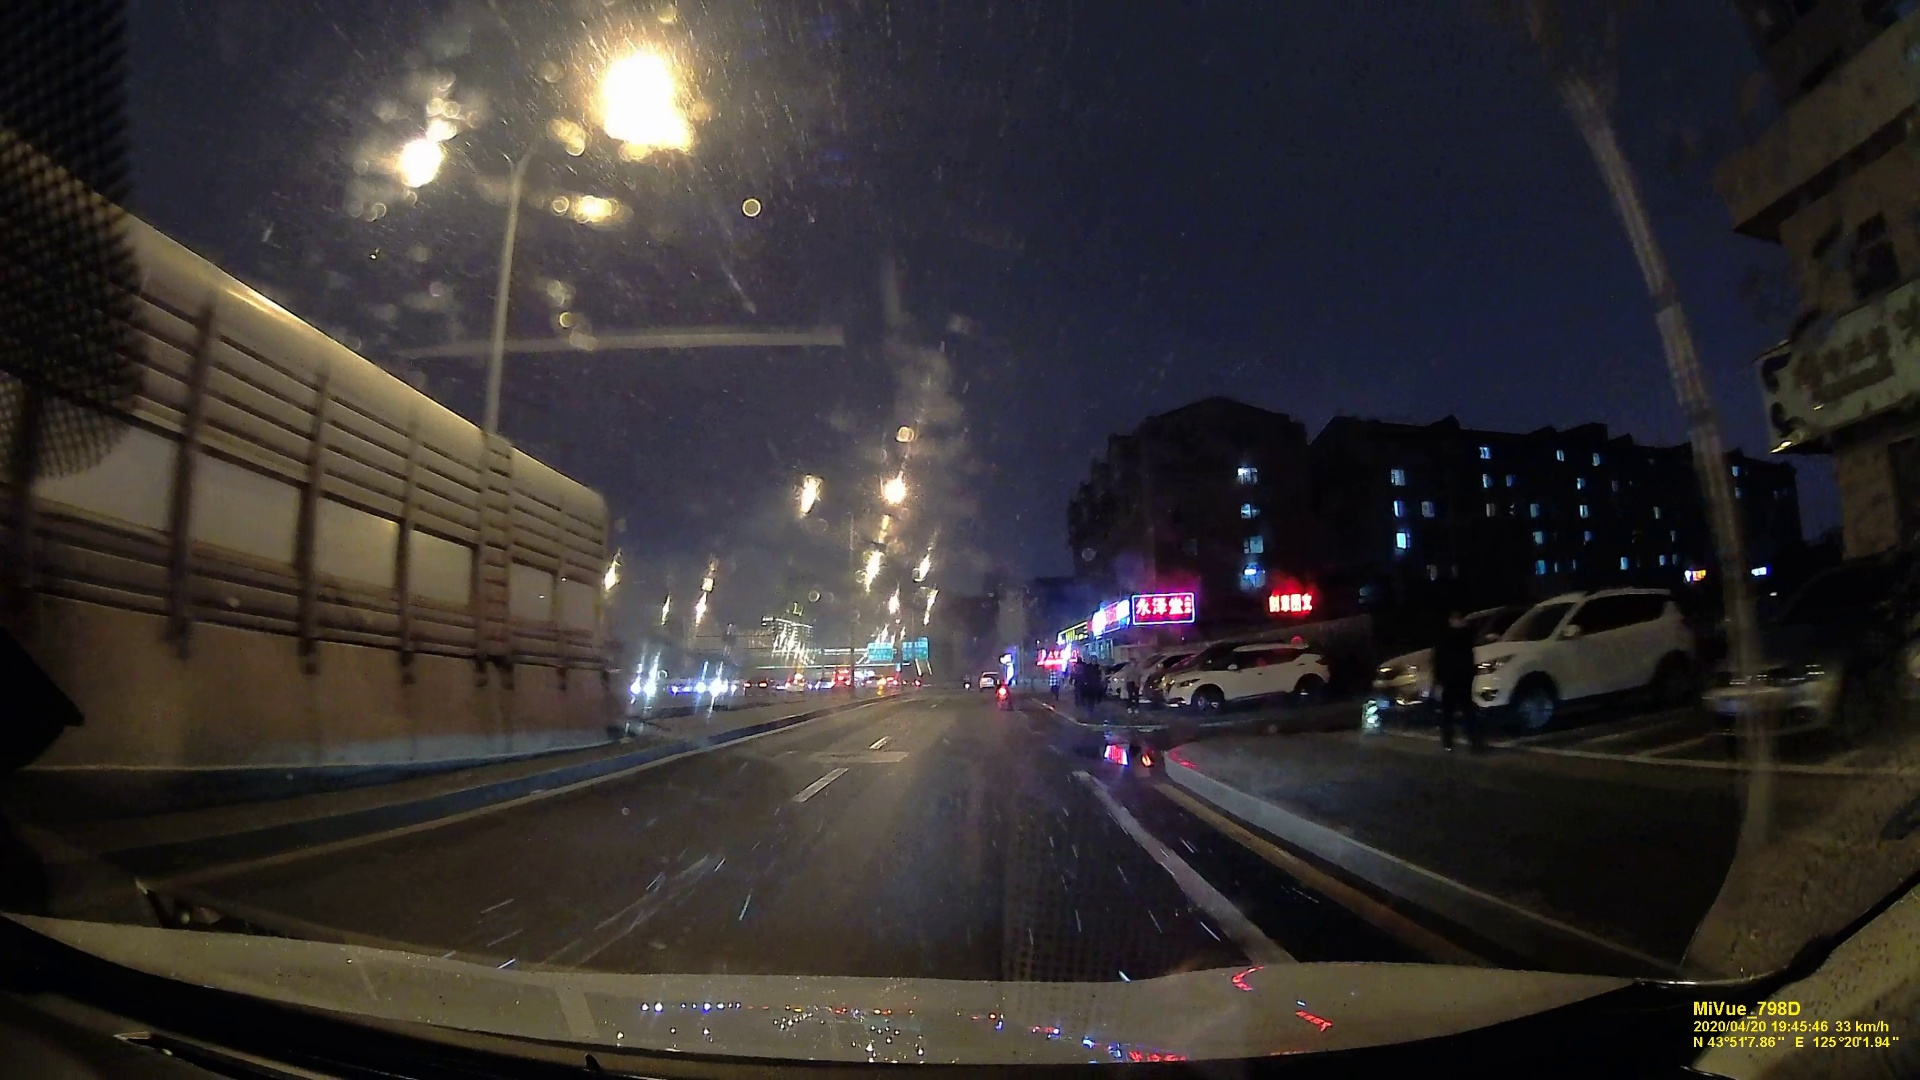person: (1430, 607, 1480, 749), (1081, 652, 1103, 716), (1122, 656, 1143, 716)
traffic_sign: (901, 638, 926, 658), (867, 641, 892, 660)
vehicle: (1481, 591, 1697, 721), (1162, 645, 1332, 713)
